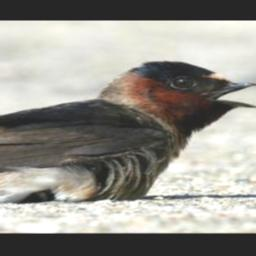Swallow: (0, 59, 256, 205)
